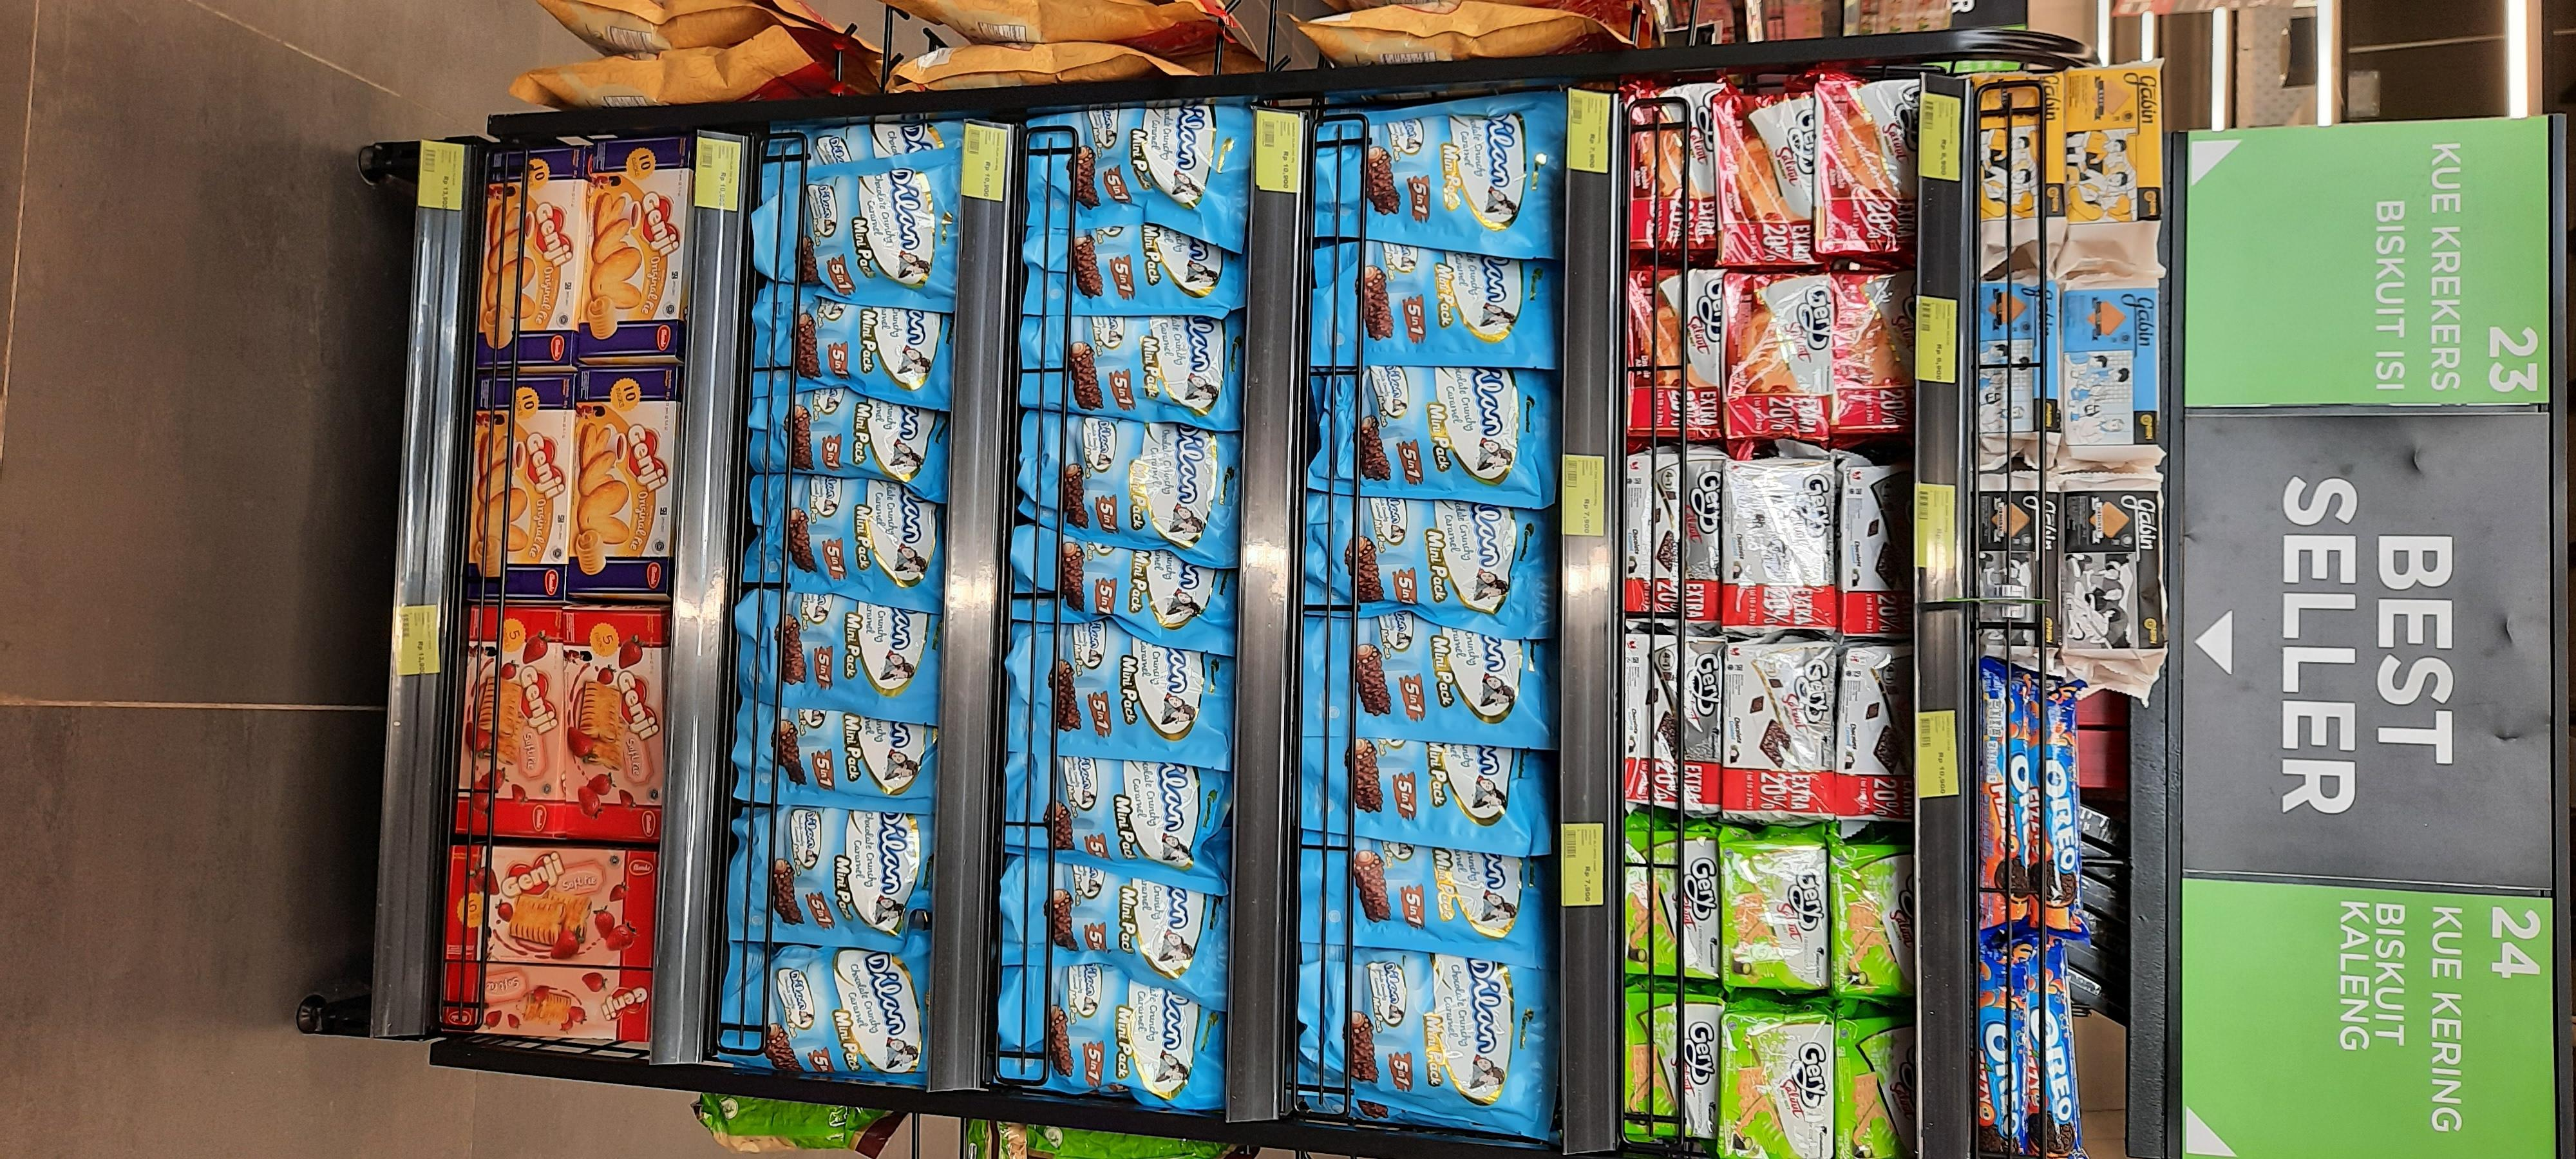90101225212101: (1718, 842, 1830, 988), (1720, 842, 1830, 990), (1722, 1011, 1832, 1159), (1628, 988, 1723, 1134), (1625, 829, 1718, 977)
90101225218101: (1723, 642, 1835, 819), (1623, 635, 1718, 809), (1625, 455, 1720, 622)
90101225226101: (1723, 461, 1835, 630), (1814, 79, 1919, 251), (1723, 274, 1832, 438), (1713, 95, 1815, 263), (1626, 80, 1727, 250), (1630, 269, 1723, 438)
90101232211100: (1299, 944, 1552, 1134), (1314, 97, 1562, 256), (997, 962, 1227, 1110), (1309, 364, 1554, 496), (1028, 102, 1252, 240), (754, 154, 959, 304), (726, 804, 936, 949), (718, 947, 931, 1075)
GenjiOriginalPie: (465, 376, 572, 598), (572, 369, 677, 594), (478, 149, 583, 366), (588, 141, 692, 355)
GenjiSoftPie: (444, 845, 660, 969), (458, 607, 560, 837), (562, 609, 662, 839), (442, 960, 651, 1039)
NissinGabinCheese: (2063, 66, 2162, 222), (1975, 72, 2065, 227)
NissinGabinMilk: (2062, 291, 2157, 445), (1978, 282, 2062, 433)
NissinGabinOriginal: (2057, 486, 2165, 650), (1976, 488, 2062, 648)
OreoFizzy: (1980, 663, 2031, 928), (2031, 680, 2081, 932), (2029, 936, 2081, 1159), (1980, 936, 2027, 1159)
